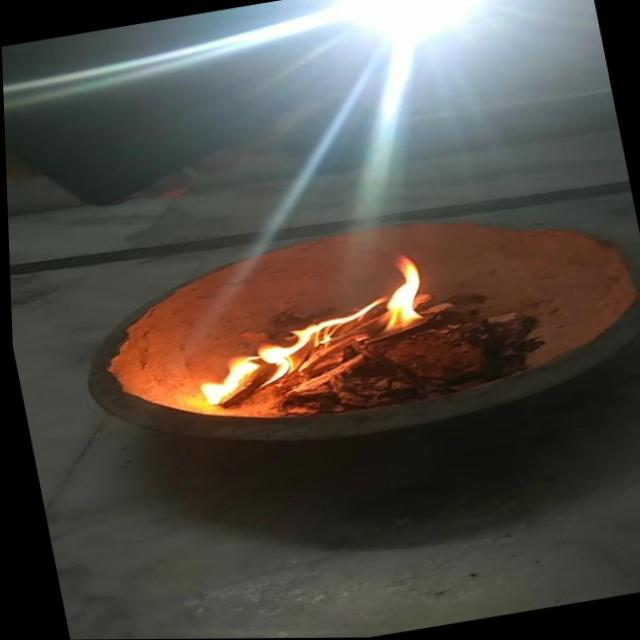fire: (177, 250, 451, 417)
